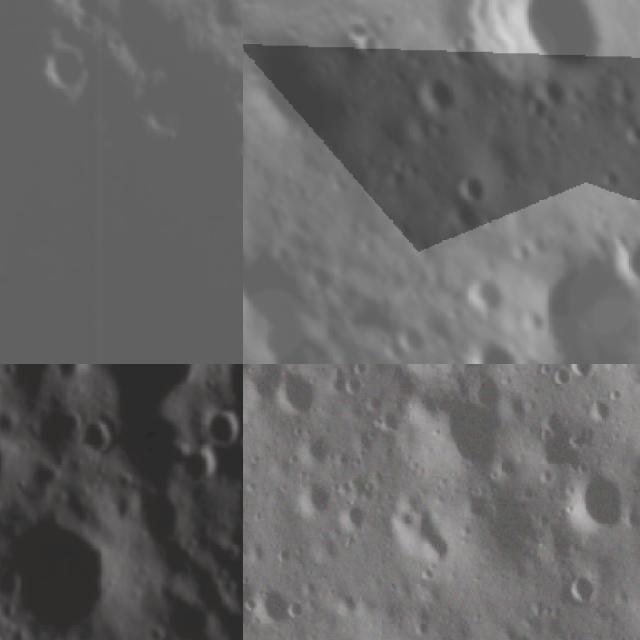crater: (143, 364, 243, 640), (441, 0, 636, 132), (481, 227, 640, 364), (0, 509, 125, 640), (243, 205, 334, 362), (252, 67, 370, 180), (422, 398, 506, 478), (562, 467, 636, 540), (400, 66, 471, 136), (387, 502, 464, 565), (457, 266, 520, 334), (599, 217, 640, 310), (40, 30, 93, 96), (447, 325, 535, 364), (447, 158, 504, 216), (530, 72, 582, 124), (444, 29, 494, 82), (386, 315, 439, 364), (268, 364, 317, 417), (176, 441, 218, 502), (252, 581, 296, 629), (364, 328, 420, 364), (207, 402, 243, 458), (592, 160, 636, 204), (516, 91, 558, 134), (352, 31, 394, 73), (79, 418, 122, 459), (559, 569, 602, 610), (501, 234, 541, 276), (295, 426, 337, 466), (292, 481, 332, 521), (335, 498, 371, 537), (613, 112, 640, 163), (583, 387, 614, 426), (372, 403, 406, 436), (545, 364, 582, 393), (332, 590, 362, 622), (50, 364, 89, 385), (282, 594, 306, 624), (243, 133, 259, 176), (567, 364, 603, 382), (342, 374, 366, 398), (272, 544, 294, 568), (349, 364, 375, 377), (311, 632, 340, 640)
